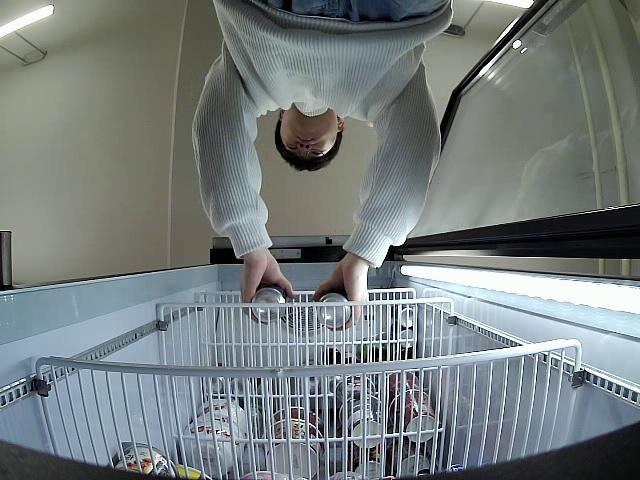00_hand: (313, 262, 369, 331), (241, 259, 295, 325)
14_welchsGrape: (251, 281, 287, 323), (315, 289, 352, 328)
